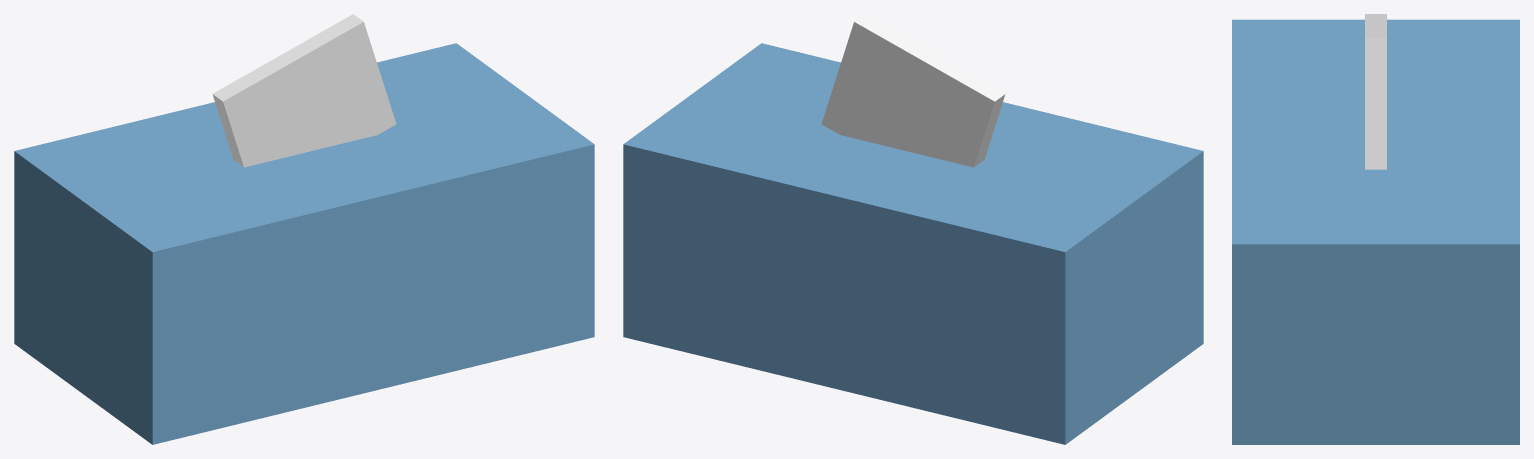
The model's file is tissue_box.glb.
3 views of the same model, side by side, from view 1: azimuth 30°, elevation 25°; view 2: azimuth 150°, elevation 25°; view 3: azimuth 270°, elevation 25° (orthographic). The views are drawn at different scales.
Parts seen in each view (by area): view 1: box_tissue_box, tissue_tissue; view 2: box_tissue_box, tissue_tissue; view 3: box_tissue_box, tissue_tissue.
Part boxes in pixels (box(x1,y1,x2,y2)): box_tissue_box: box(14, 43, 594, 444); tissue_tissue: box(212, 14, 396, 167); box_tissue_box: box(623, 43, 1203, 444); tissue_tissue: box(821, 14, 1005, 167); box_tissue_box: box(1232, 19, 1519, 444); tissue_tissue: box(1365, 14, 1386, 169).
Size of the model in its own units: 0.24 by 0.1605 by 0.13.
